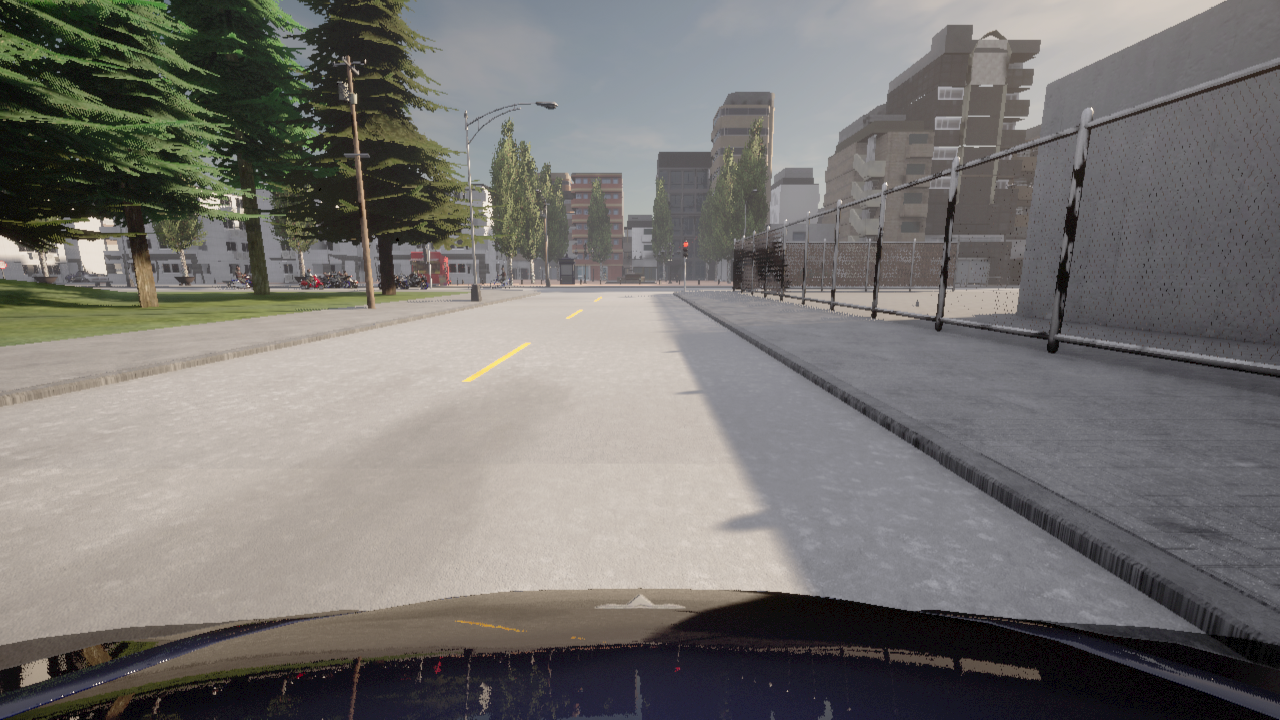cyclist: (0, 588, 1279, 719), (376, 274, 407, 288), (324, 274, 352, 288), (402, 273, 428, 288), (70, 273, 107, 282), (300, 274, 323, 288), (65, 271, 93, 282), (316, 275, 339, 287), (232, 280, 251, 288), (490, 279, 510, 286), (348, 279, 357, 287), (245, 281, 252, 287)
